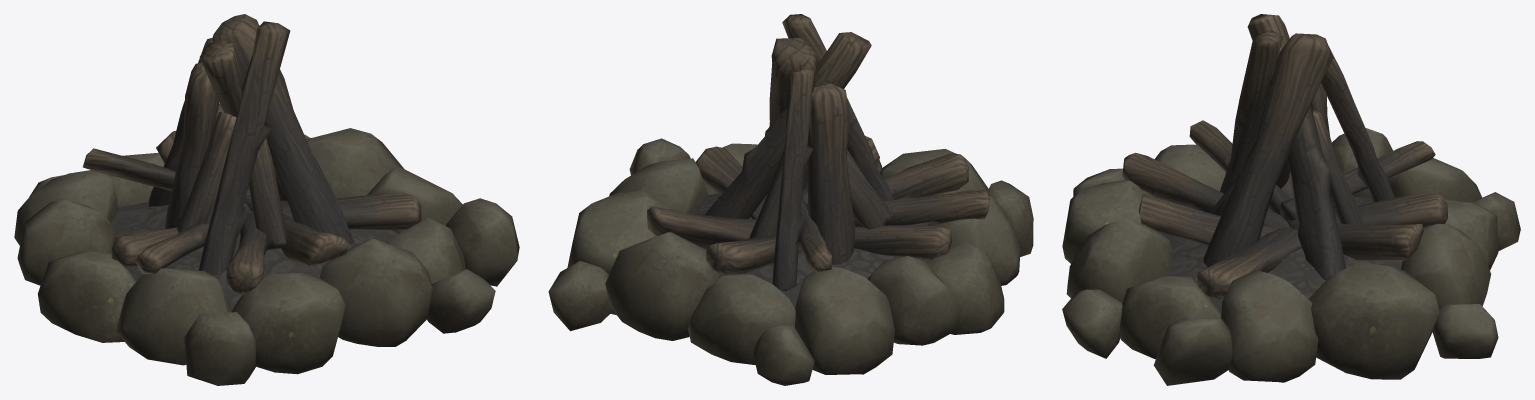
File: MSH_fwOF_Campfire_01.fbx
3 views of the same model, side by side, from view 1: azimuth 30°, elevation 25°; view 2: azimuth 150°, elevation 25°; view 3: azimuth 270°, elevation 25° (orthographic).
Visible parts, largest first — view 1: MSH_fwOF_Campfire_01_LOD0; view 2: MSH_fwOF_Campfire_01_LOD0; view 3: MSH_fwOF_Campfire_01_LOD0.
Boxes of the visible parts, x1=… form: MSH_fwOF_Campfire_01_LOD0: x1=14, y1=14, x2=519, y2=385; MSH_fwOF_Campfire_01_LOD0: x1=548, y1=14, x2=1033, y2=385; MSH_fwOF_Campfire_01_LOD0: x1=1062, y1=14, x2=1520, y2=385.
Size of what is drawn, in the model's own units: 0.9571 by 0.6234 by 0.9156.
